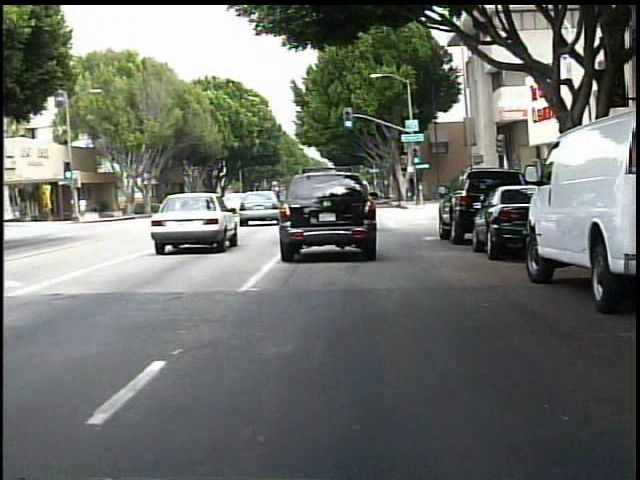person: (79, 193, 91, 221)
